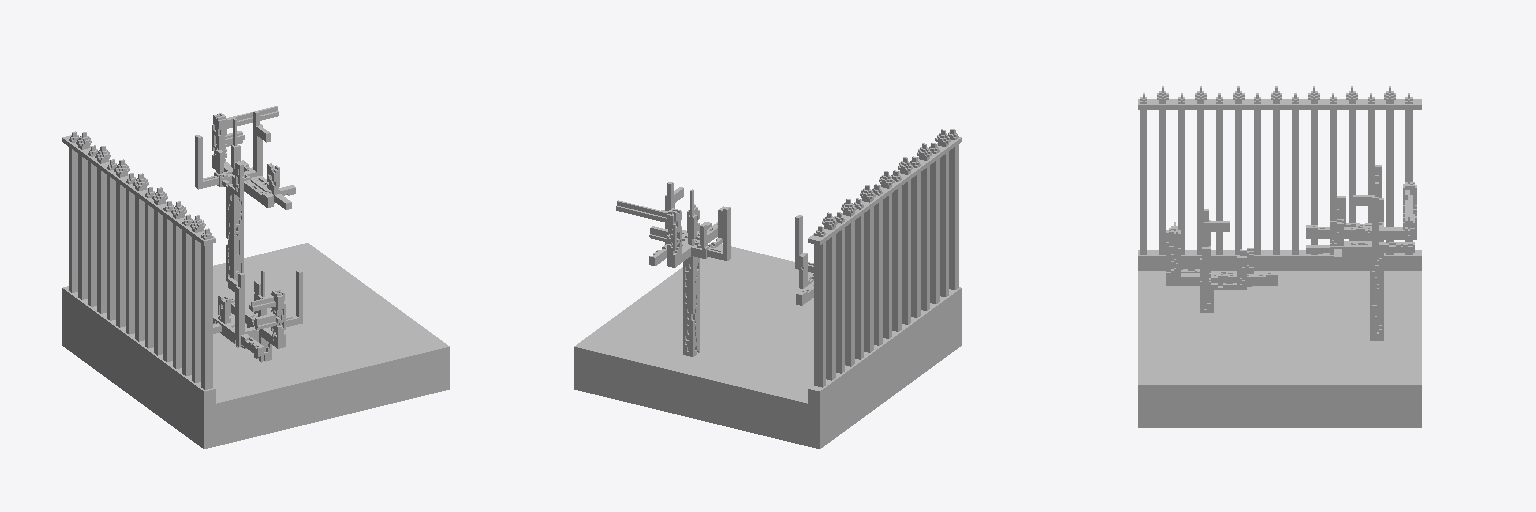
The model's file is 3d fon 3.1-0.obj.
The picture shows the model from 3 angles: view 1: azimuth 30°, elevation 25°; view 2: azimuth 150°, elevation 25°; view 3: azimuth 270°, elevation 25°; orthographic projection.
Visible parts, largest first — view 1: object 1; view 2: object 1; view 3: object 1.
Boxes of the visible parts, <box> form: object 1: <box>62,106,449,448</box>; object 1: <box>574,129,961,448</box>; object 1: <box>1138,86,1421,427</box>.
Size of the model in its own units: 12 by 10.4 by 12.